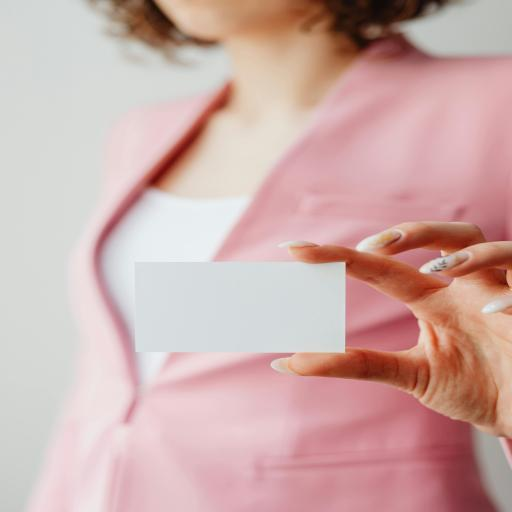person: (27, 0, 511, 512)
